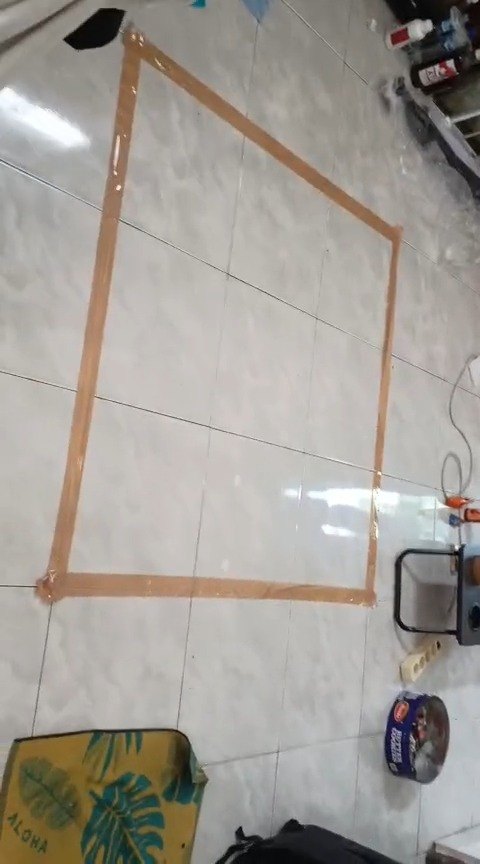floor marking: (37, 31, 401, 605)
